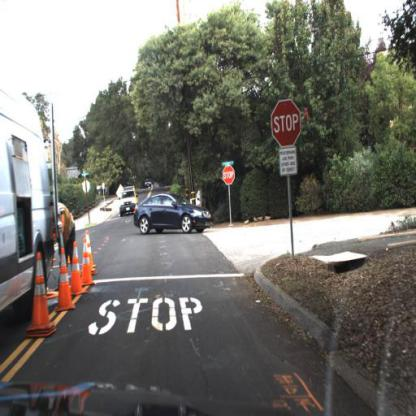car: (1, 91, 56, 329), (134, 196, 209, 240), (119, 188, 140, 216), (145, 177, 154, 190)
pedestrian: (52, 200, 79, 284)
